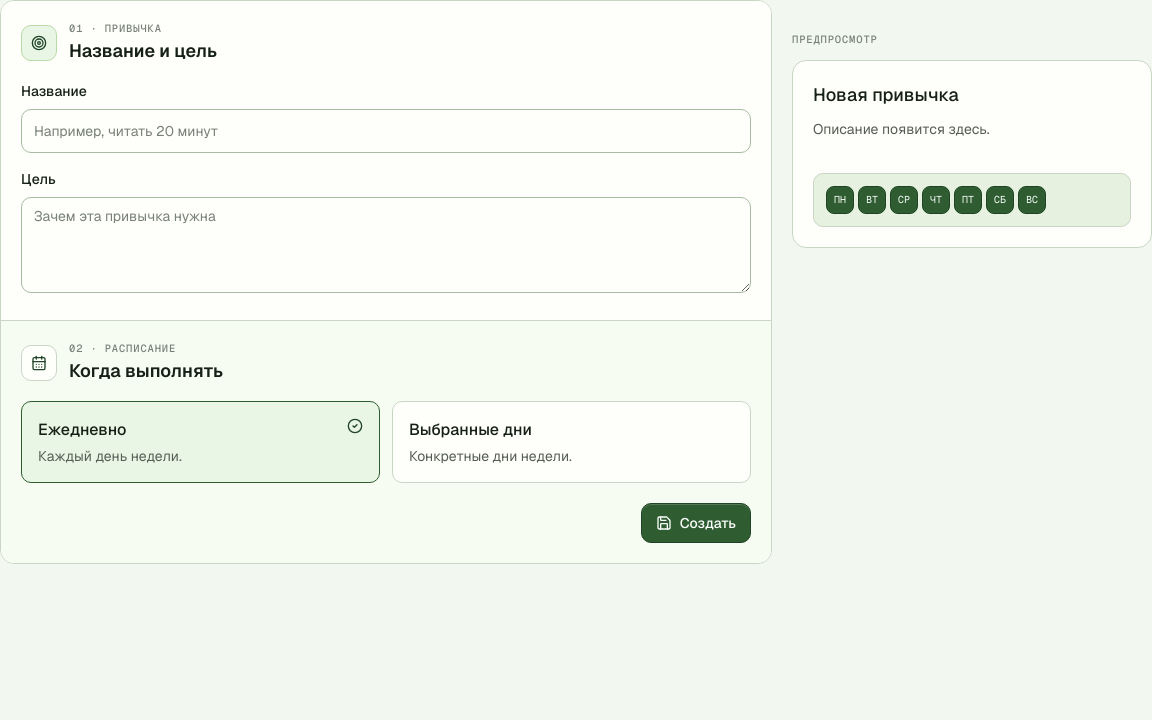
Test: HabitForm › shows backend schedule.weekdays error near weekday picker
Type "Тренировка" into the field labelled "Название" at [386, 131], box [21,109,751,153]
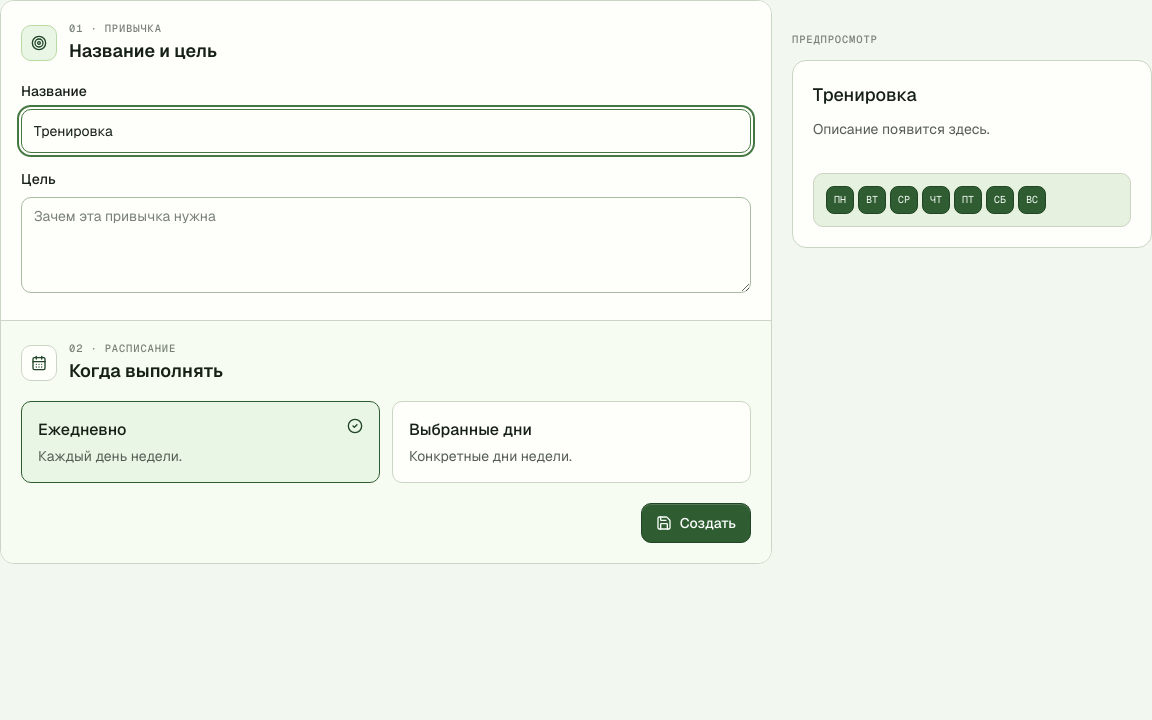
Click the text "Выбранные дни" at [470, 429], box [409,418,532,440]
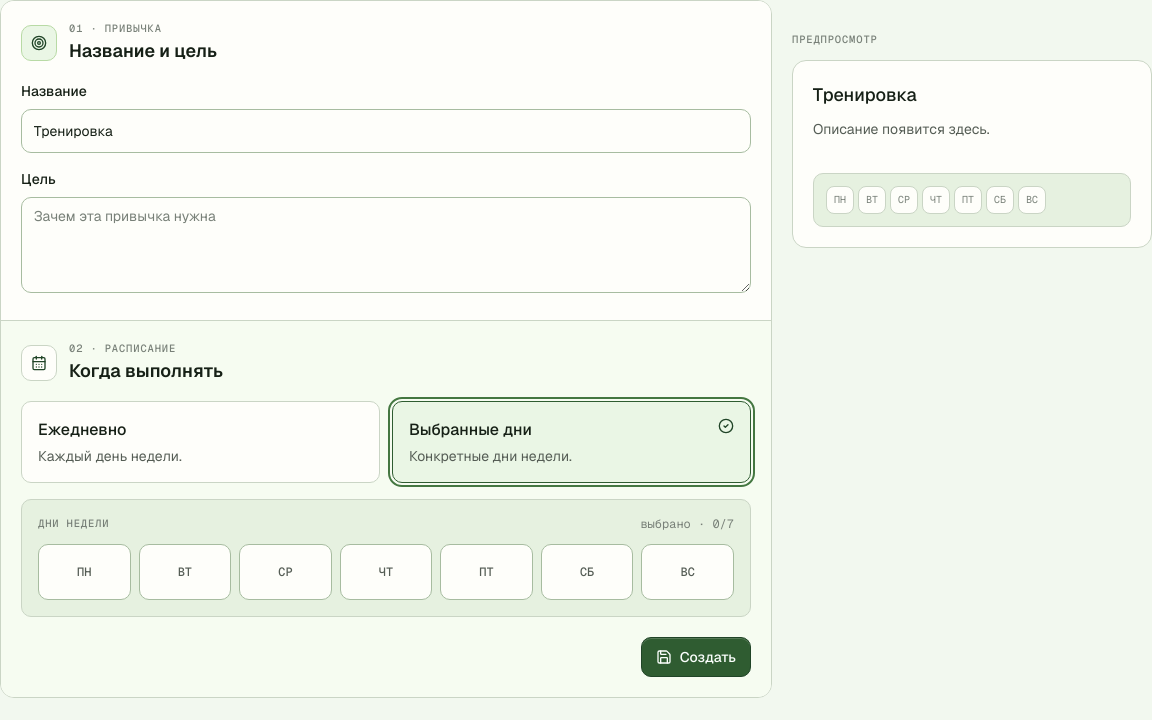
Click the button "пн" at [84, 572], box [38,544,131,600]
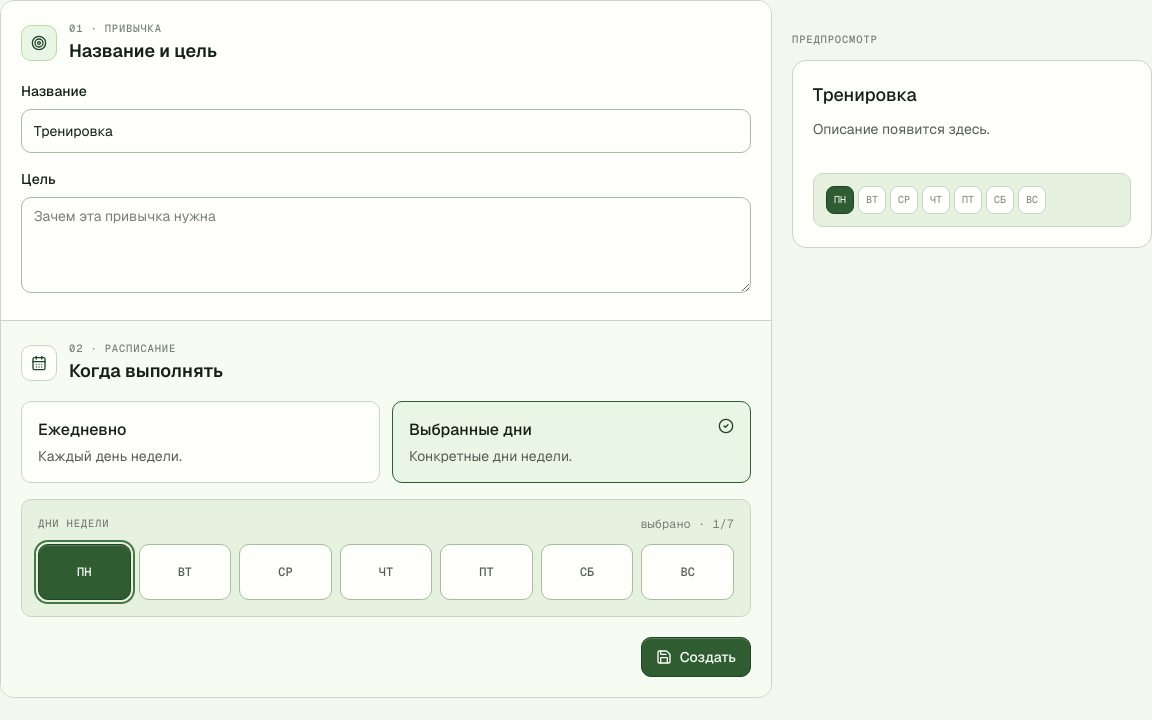
Click the button "Создать" at [696, 656], box [641,636,751,676]
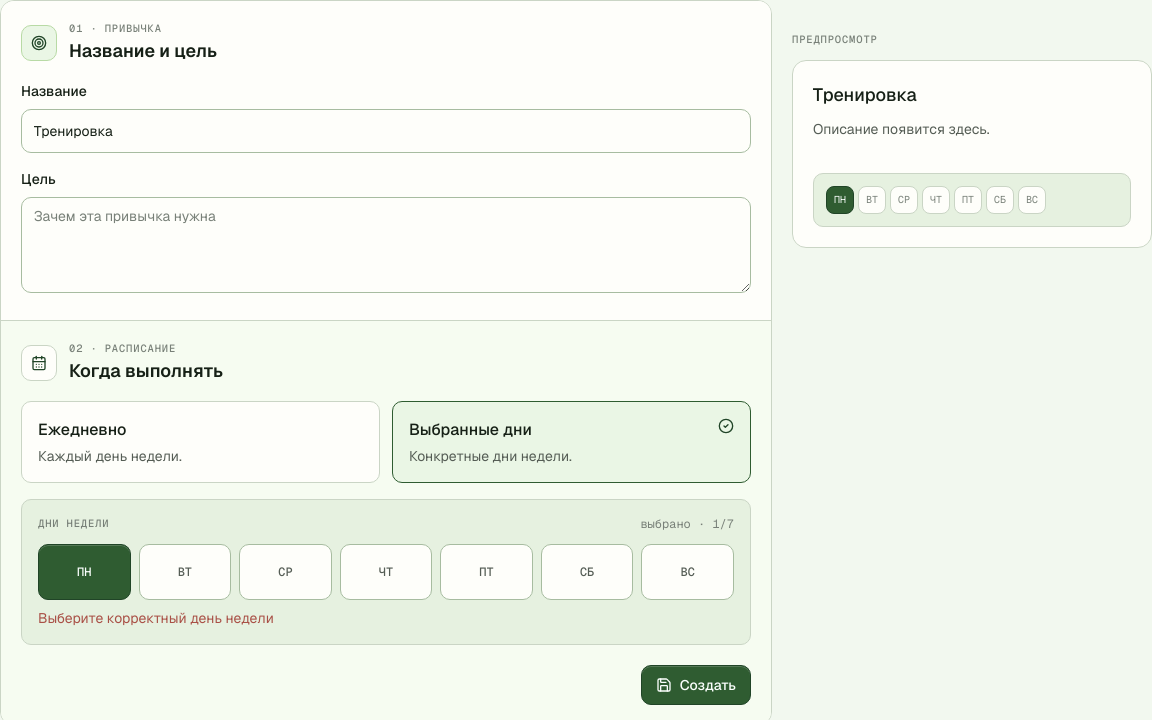
Expected: the text "Выберите корректный день недели" is shown, [38,608,274,626]
